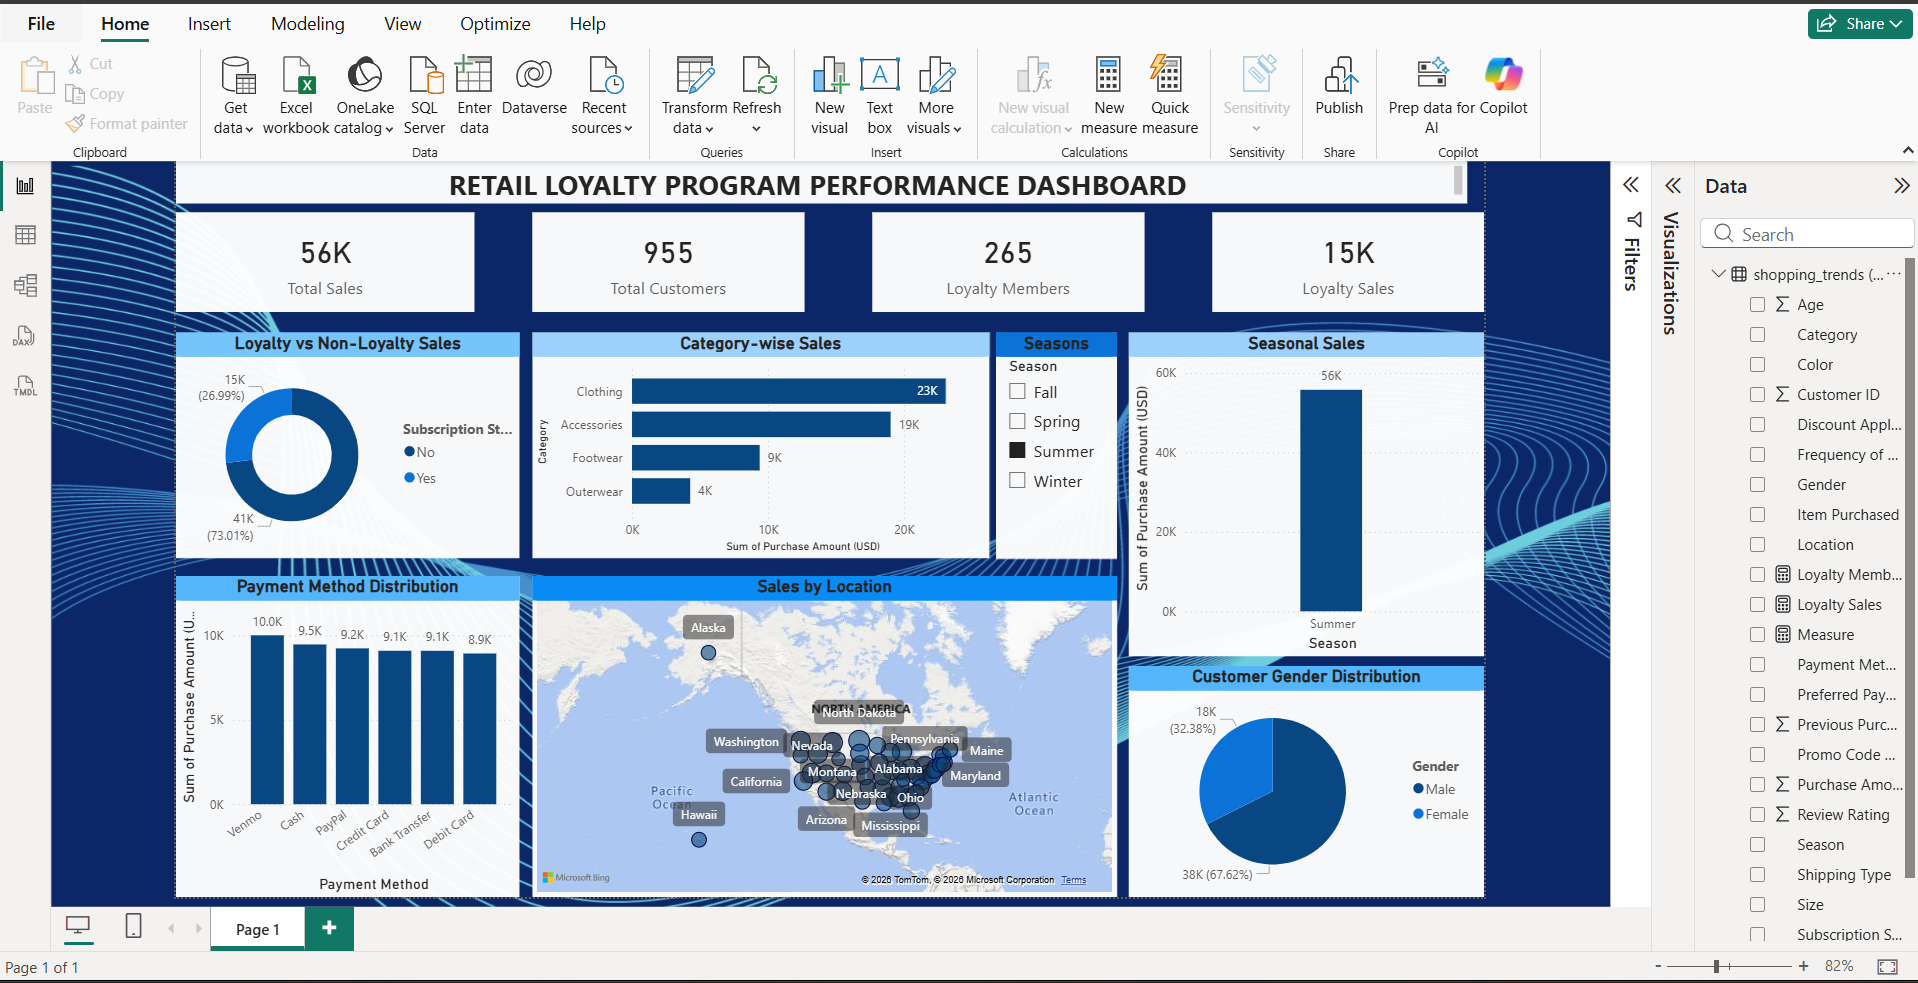

What the dashboard file says about the page in this screenshot:
{"tool":"powerbi","page":{"name":"Page 1","canvas":[1280,720],"ordinal":0},"visuals":[{"type":"card","fields":{"Values":["shopping_trends (1).Total Sales"]},"box":[0,50.1,292.3,97.8],"z":0},{"type":"card","fields":{"Values":["shopping_trends (1).Total Customers"]},"box":[348.5,50.1,266.6,97.8],"z":1000},{"type":"card","fields":{"Values":["shopping_trends (1).Loyalty Members"]},"box":[681.1,50.1,266.6,97.8],"z":2000},{"type":"card","fields":{"Values":["shopping_trends (1).Loyalty Sales"]},"box":[1013.7,50.1,266.6,97.8],"z":3000},{"type":"textbox","box":[0,0,1263.2,41.6],"z":4000},{"type":"donutChart","title":"Loyalty vs Non-Loyalty Sales","fields":{"Category":["shopping_trends (1).Subscription Status"],"Y":["Sum(shopping_trends (1).Purchase Amount (USD))"]},"box":[0,167.4,336.2,220.9],"z":5000},{"type":"clusteredBarChart","title":"Category-wise Sales","fields":{"Category":["shopping_trends (1).Category"],"Y":["Sum(shopping_trends (1).Purchase Amount (USD))"]},"box":[348.5,167.4,447.3,220.9],"z":6000},{"type":"clusteredColumnChart","title":"Seasonal Sales","fields":{"Category":["shopping_trends (1).Season"],"Y":["Sum(shopping_trends (1).Purchase Amount (USD))"]},"box":[931.7,167.4,348.5,317],"z":7000},{"type":"map","title":"Sales by Location","fields":{"Category":["shopping_trends (1).Location"],"Size":["Sum(shopping_trends (1).Purchase Amount (USD))"]},"box":[348.5,406.2,572.2,314.2],"z":8000},{"type":"pieChart","title":"Customer Gender Distribution","fields":{"Category":["shopping_trends (1).Gender"],"Y":["Sum(shopping_trends (1).Purchase Amount (USD))"]},"box":[931.8,494,348.5,226.2],"z":9000},{"type":"clusteredColumnChart","title":"Payment Method Distribution","fields":{"Category":["shopping_trends (1).Payment Method"],"Y":["Sum(shopping_trends (1).Purchase Amount (USD))"]},"box":[0,406.2,336.2,314.2],"z":10000},{"type":"slicer","title":"Seasons","fields":{"Values":["shopping_trends (1).Season"]},"box":[802.2,167.5,118.6,221.3],"z":11000}]}

Visuals, with their boxes on the page's 1280x720 design canvas (x1, y1, x2, y2). These are canvas units, not pixel positions in the 1918x983 screenshot, which may show the page scaled, cropped or inside an application window:
card - shopping_trends (1).Total Sales: [0, 50, 292, 148]
card - shopping_trends (1).Total Customers: [348, 50, 615, 148]
card - shopping_trends (1).Loyalty Members: [681, 50, 948, 148]
card - shopping_trends (1).Loyalty Sales: [1014, 50, 1280, 148]
textbox: [0, 0, 1263, 42]
"Loyalty vs Non-Loyalty Sales" donutChart: [0, 167, 336, 388]
"Category-wise Sales" clusteredBarChart: [348, 167, 796, 388]
"Seasonal Sales" clusteredColumnChart: [932, 167, 1280, 484]
"Sales by Location" map: [348, 406, 921, 720]
"Customer Gender Distribution" pieChart: [932, 494, 1280, 720]
"Payment Method Distribution" clusteredColumnChart: [0, 406, 336, 720]
"Seasons" slicer: [802, 168, 921, 389]
